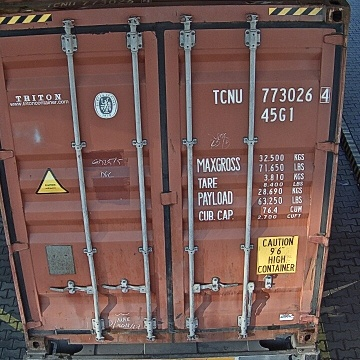serial_id: (213, 87, 330, 103)
